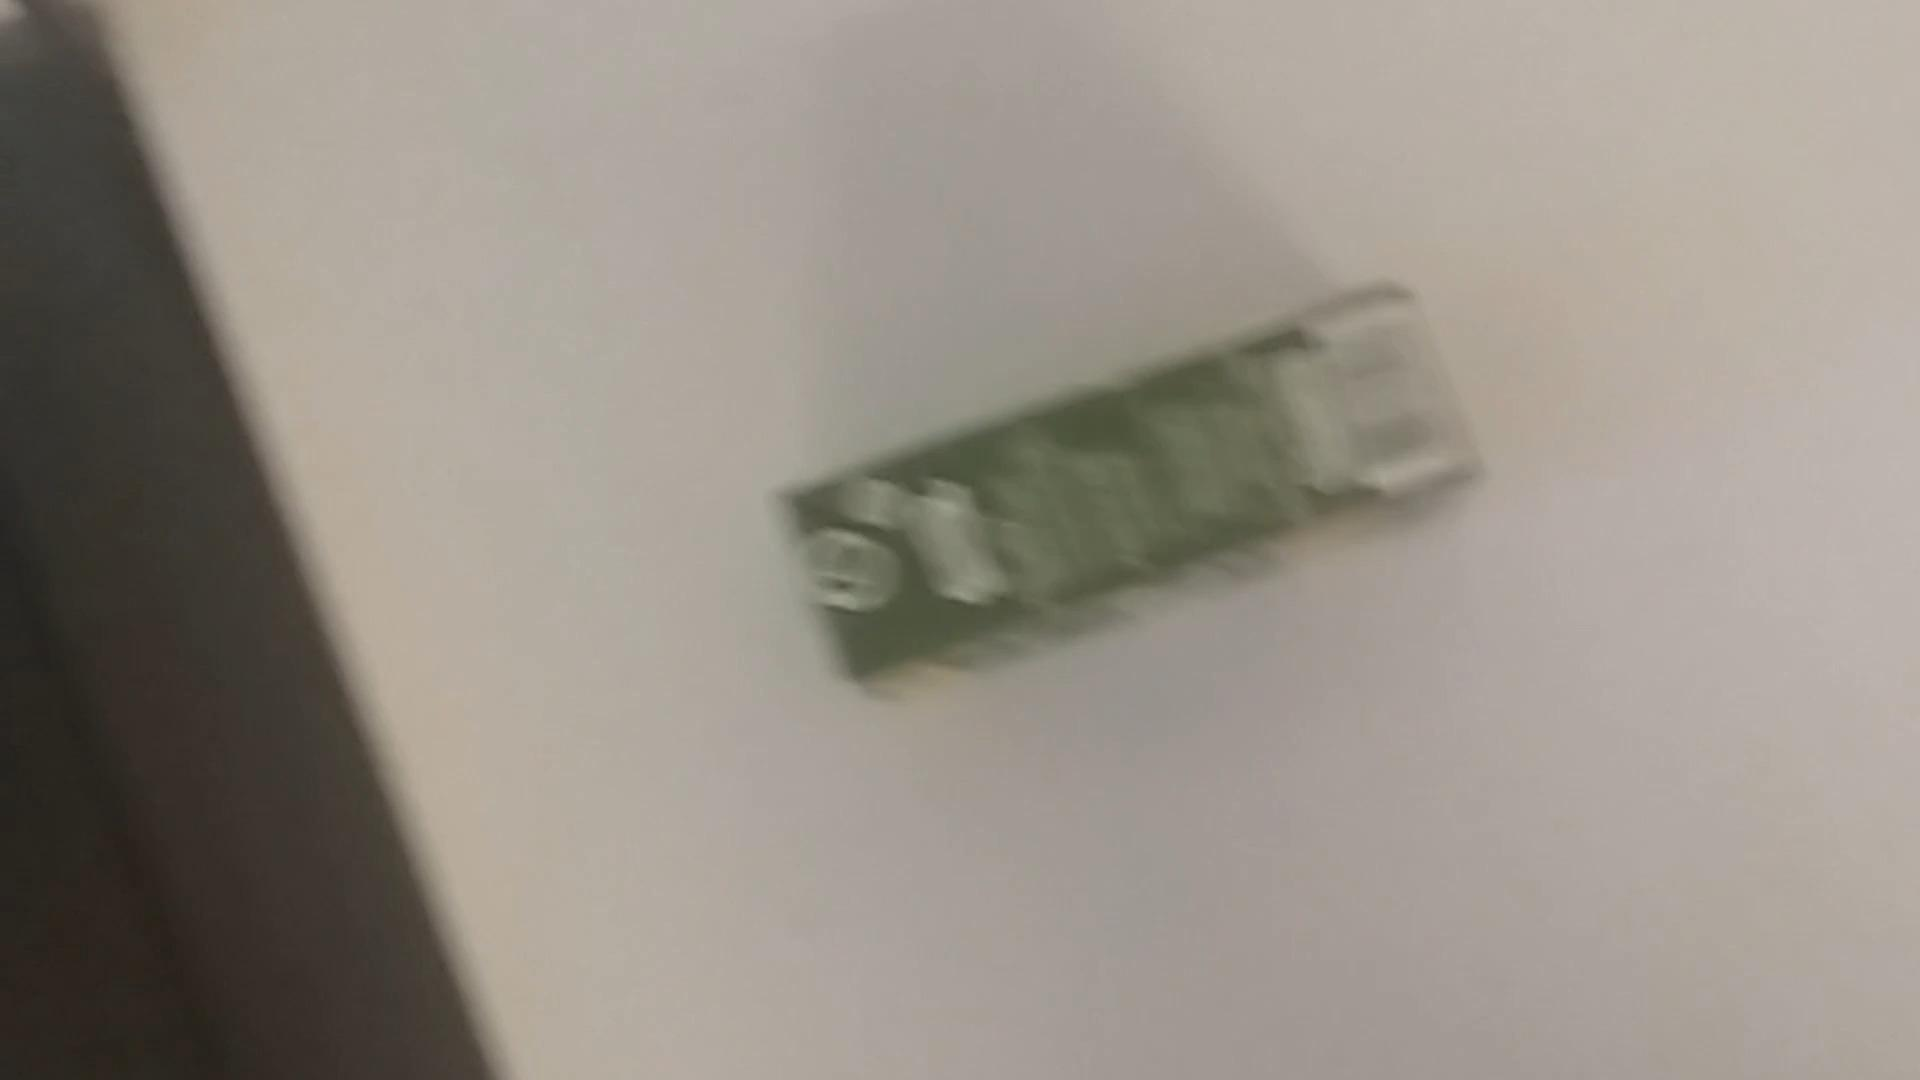coco: (787, 293, 1510, 698)
